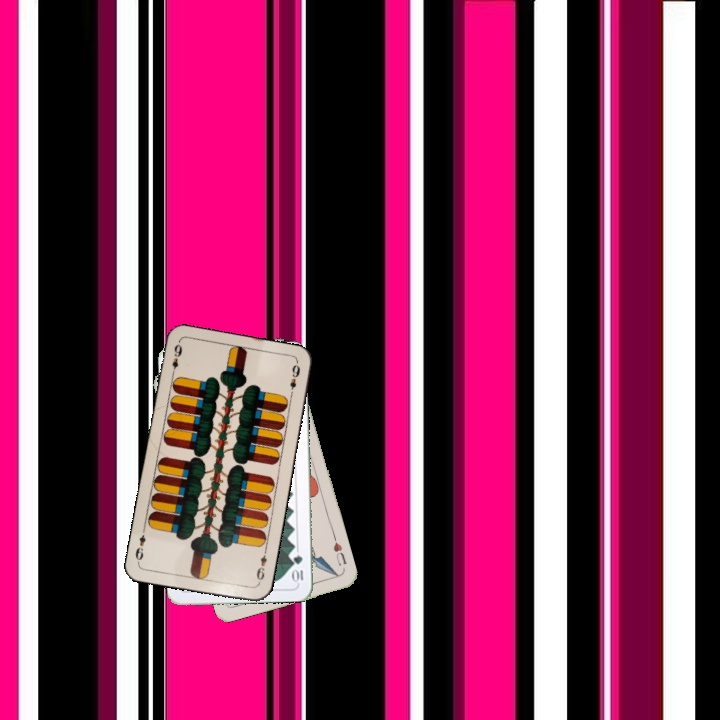E9: (167, 340, 185, 379), (252, 546, 269, 586)
G10: (290, 551, 306, 585)
HU: (329, 538, 349, 568)
